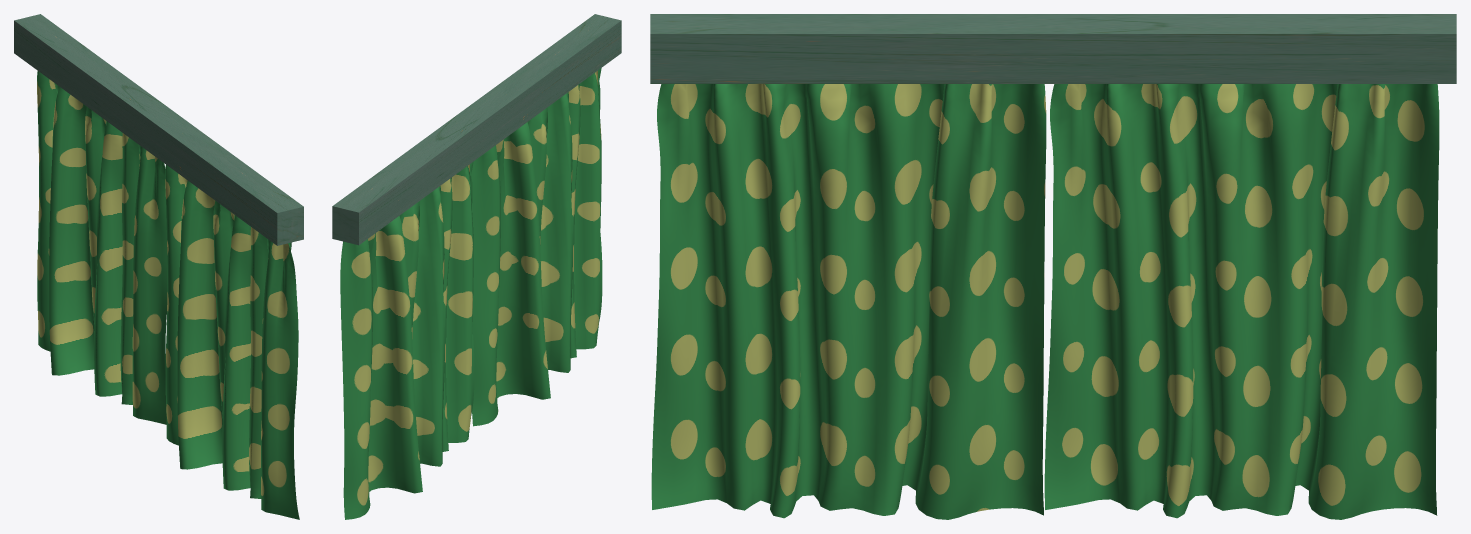
File: Cortinas.obj
3 renders of one model, left to right at view 1: azimuth 30°, elevation 25°; view 2: azimuth 150°, elevation 25°; view 3: azimuth 270°, elevation 25°, orthographic. The views are drawn at different scales.
Visible parts, largest first — view 1: polySurface2 pPlane5, pPlane5 polySurface1, pPlane5 polySurface3; view 2: pPlane5 polySurface1, polySurface2 pPlane5, pPlane5 polySurface3; view 3: pPlane5 polySurface1, polySurface2 pPlane5, pPlane5 polySurface3.
Part boxes in pixels (x1=…): polySurface2 pPlane5: x1=165, y1=165, x2=299, y2=519; pPlane5 polySurface1: x1=37, y1=71, x2=167, y2=424; pPlane5 polySurface3: x1=14, y1=14, x2=303, y2=245; pPlane5 polySurface1: x1=340, y1=161, x2=474, y2=519; polySurface2 pPlane5: x1=471, y1=68, x2=602, y2=426; pPlane5 polySurface3: x1=332, y1=14, x2=621, y2=245; pPlane5 polySurface1: x1=1044, y1=84, x2=1439, y2=519; polySurface2 pPlane5: x1=651, y1=84, x2=1046, y2=519; pPlane5 polySurface3: x1=650, y1=14, x2=1456, y2=83.
Size of the model in its own units: 0.718 by 4.76 by 7.15.
2 materials, 2 textured.
